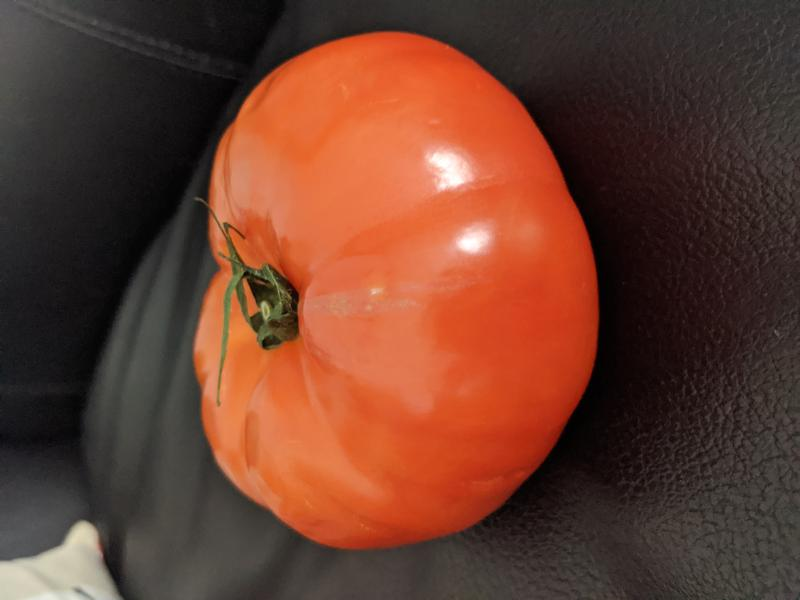tomato: (188, 31, 602, 551)
